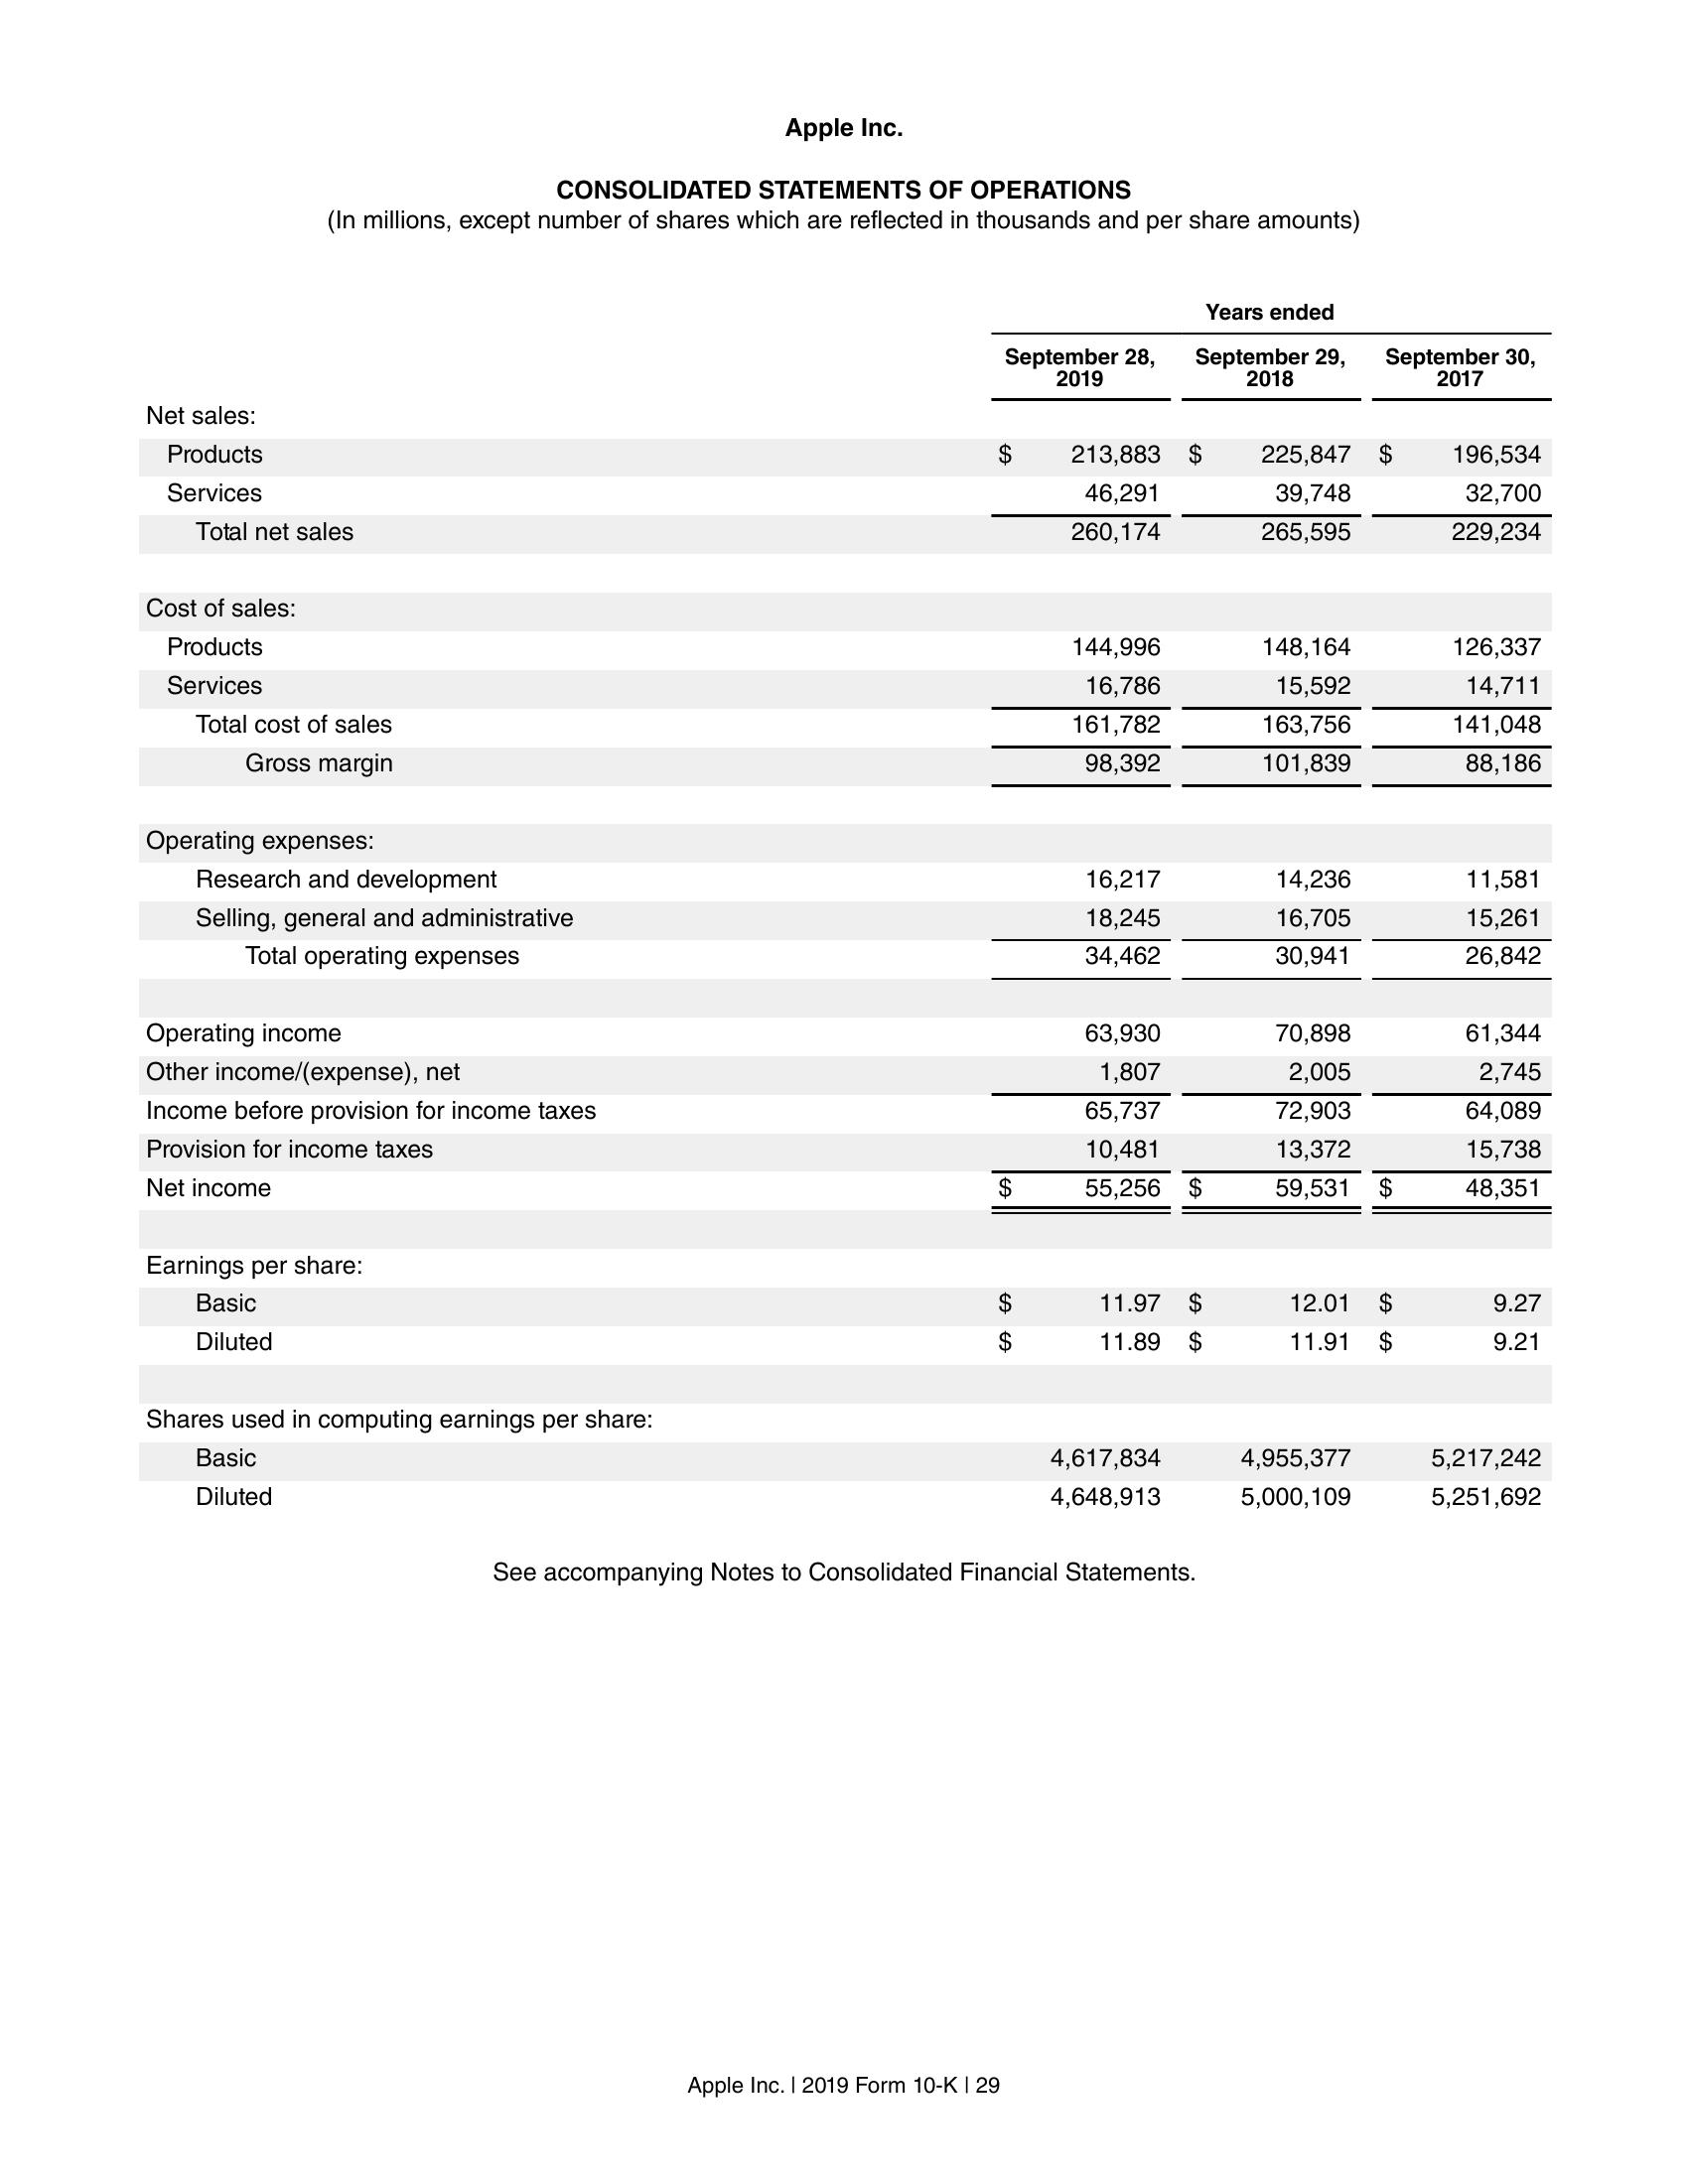table: (142, 296, 1550, 1512)
